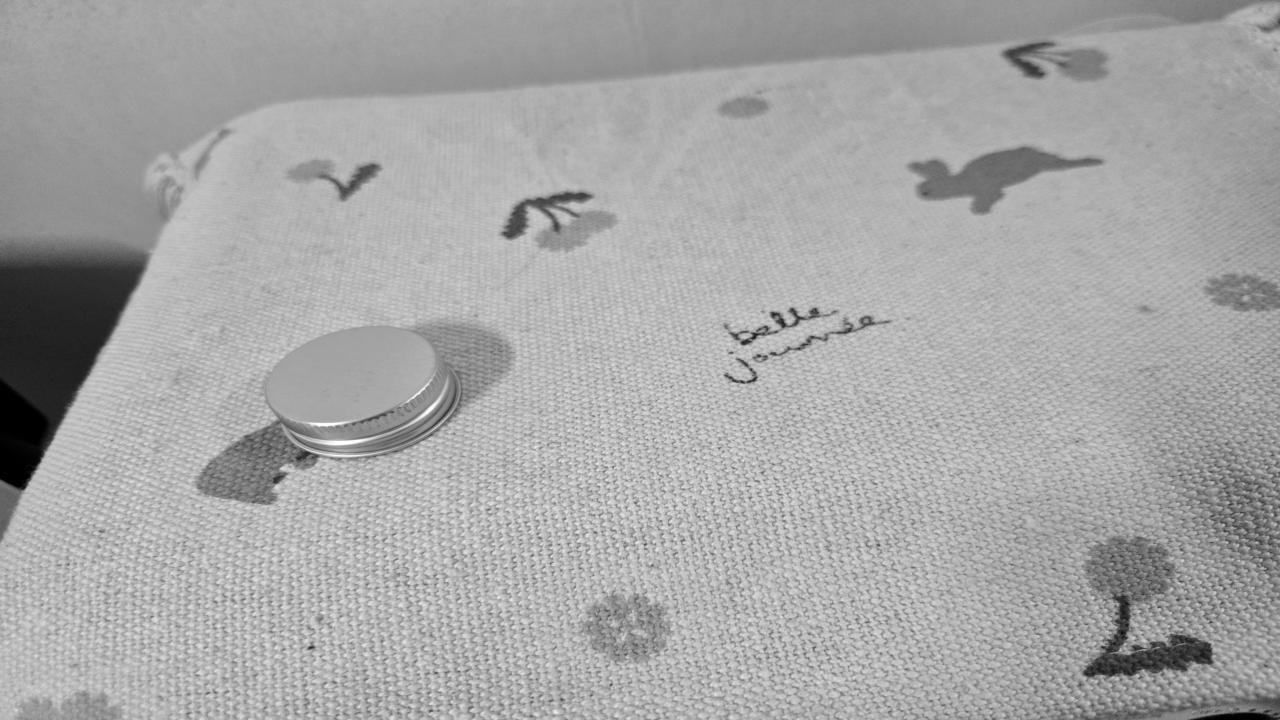bottle_cap: (258, 318, 468, 460)
